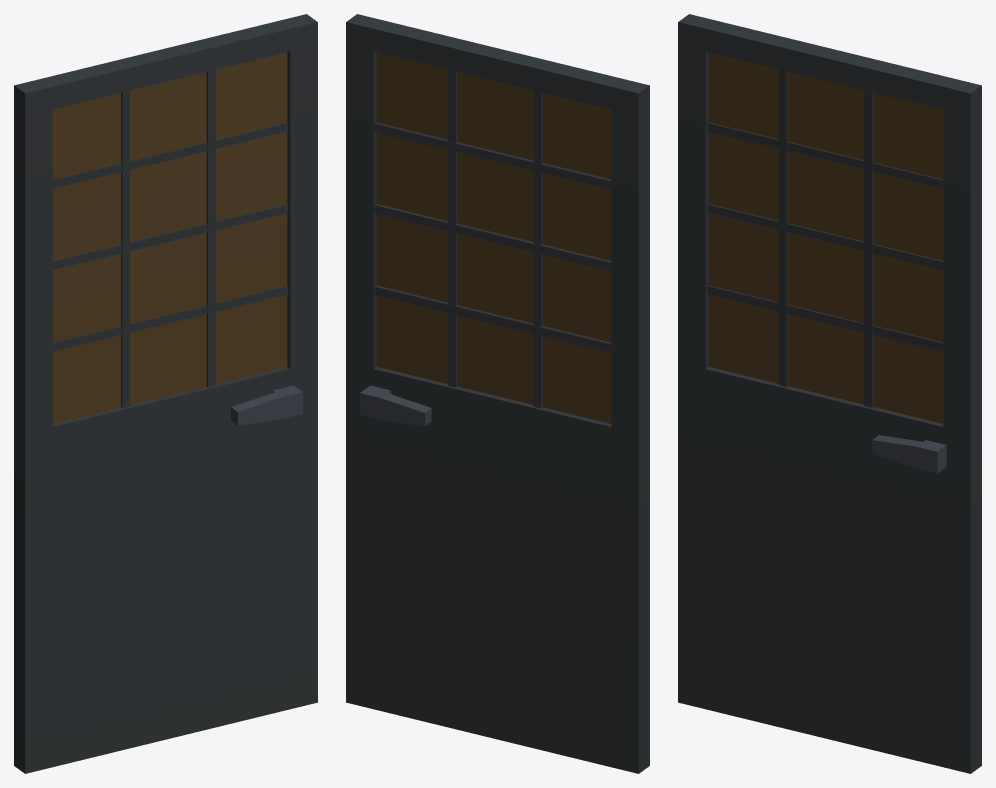
File: House_28_Door01.fbx
3 renders of one model, left to right at view 1: azimuth 30°, elevation 25°; view 2: azimuth 150°, elevation 25°; view 3: azimuth 330°, elevation 25°, orthographic.
Visible parts, largest first — view 1: House_28_Door01; view 2: House_28_Door01; view 3: House_28_Door01.
Part boxes in pixels (left/top/right/bottom): House_28_Door01: left=14, top=14, right=317, bottom=773; House_28_Door01: left=346, top=14, right=649, bottom=773; House_28_Door01: left=678, top=14, right=981, bottom=773.
Bounding box in the file's own units: 0.9 × 2 × 0.1641.
